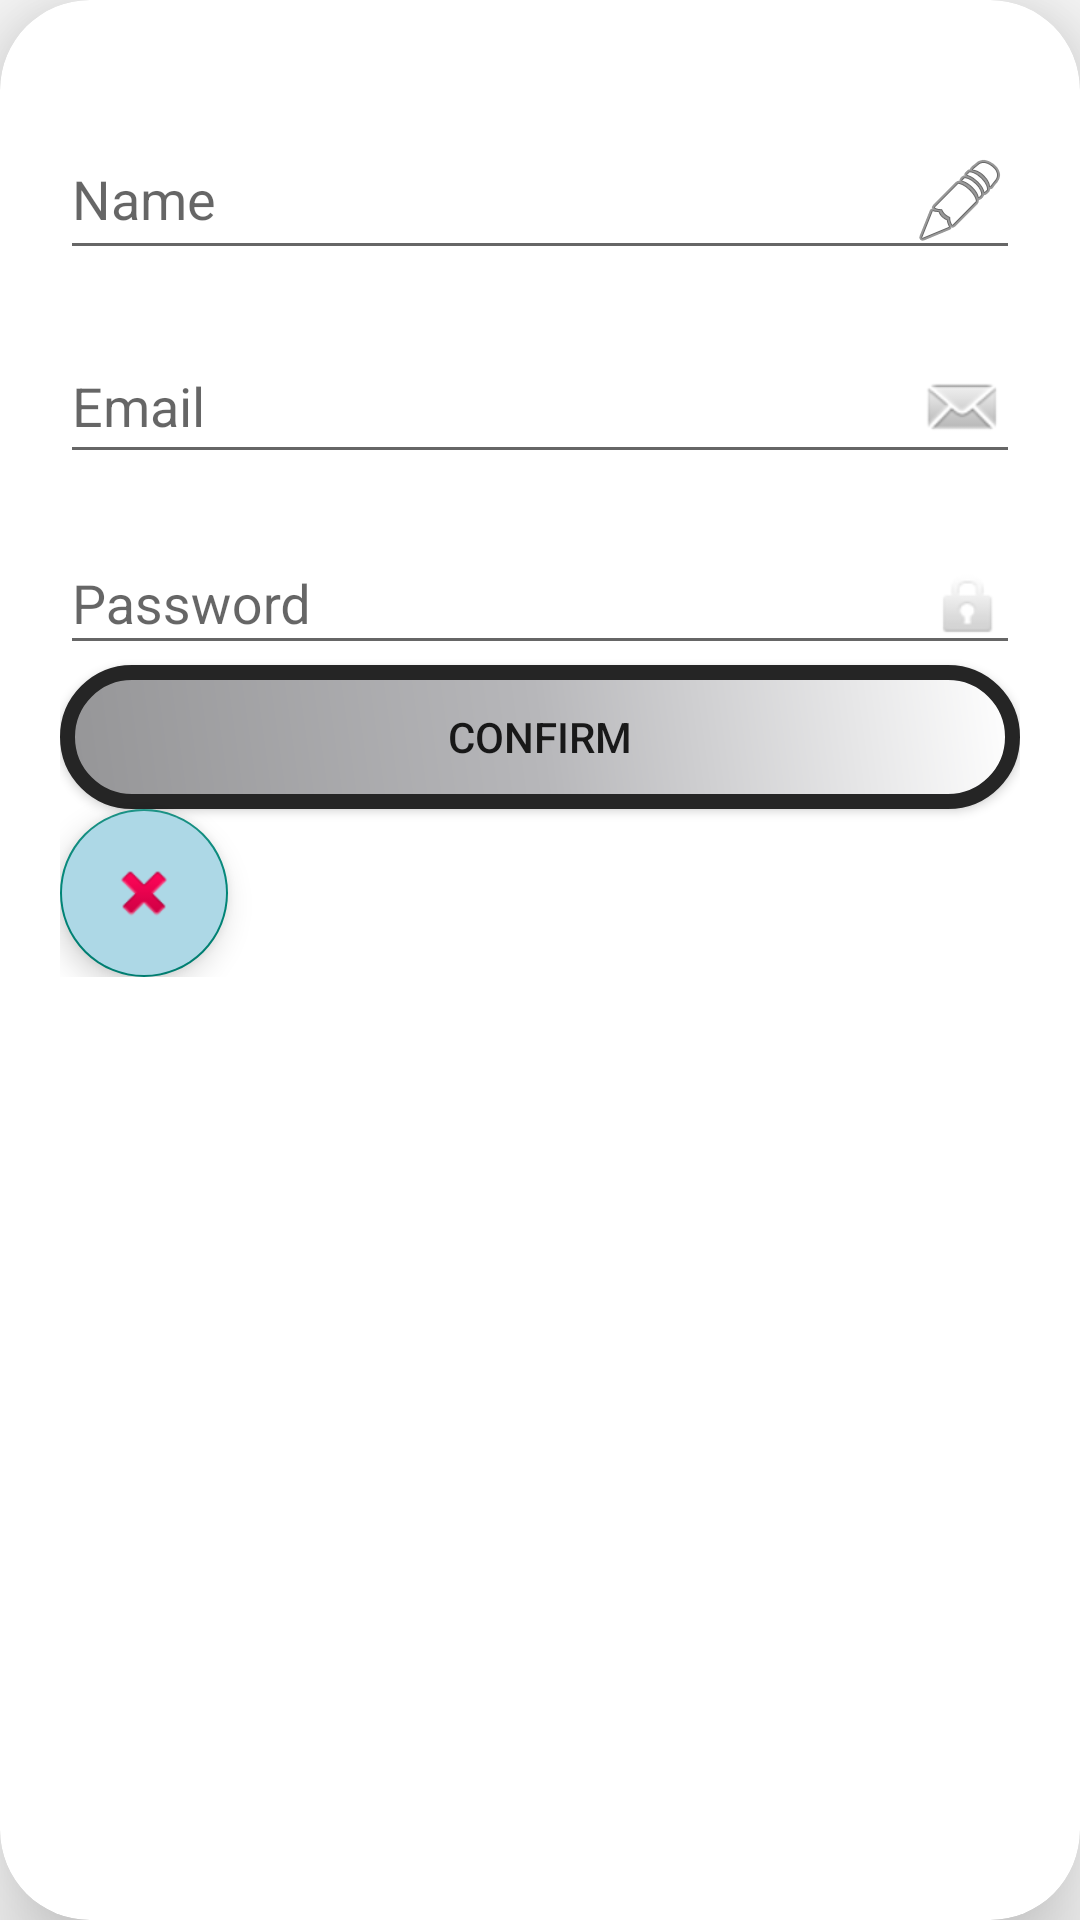

Screen size 1080×1920. Icon name, then its center in pixels as (x=x, y=y):
delete: (x=144, y=893)
